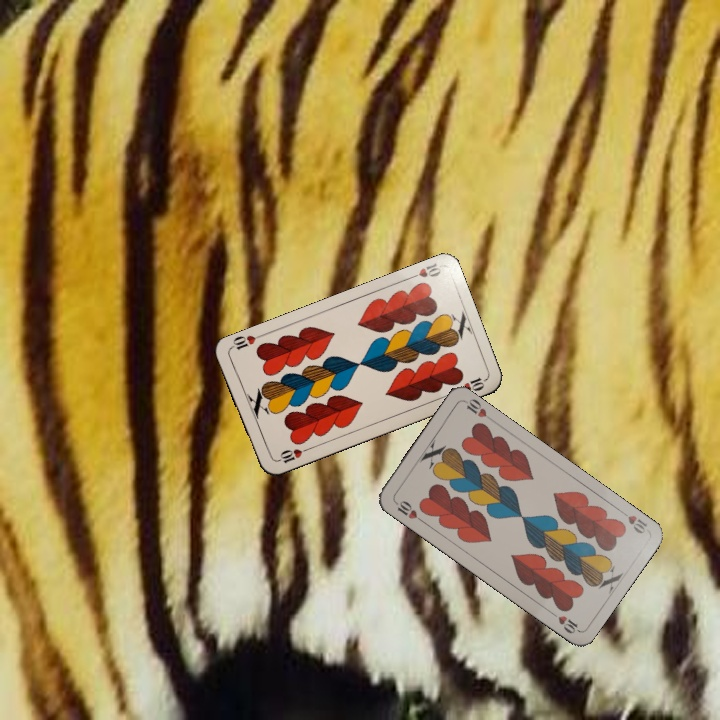H10: (615, 505, 650, 536), (390, 496, 426, 525), (404, 259, 443, 282), (272, 444, 311, 466)
